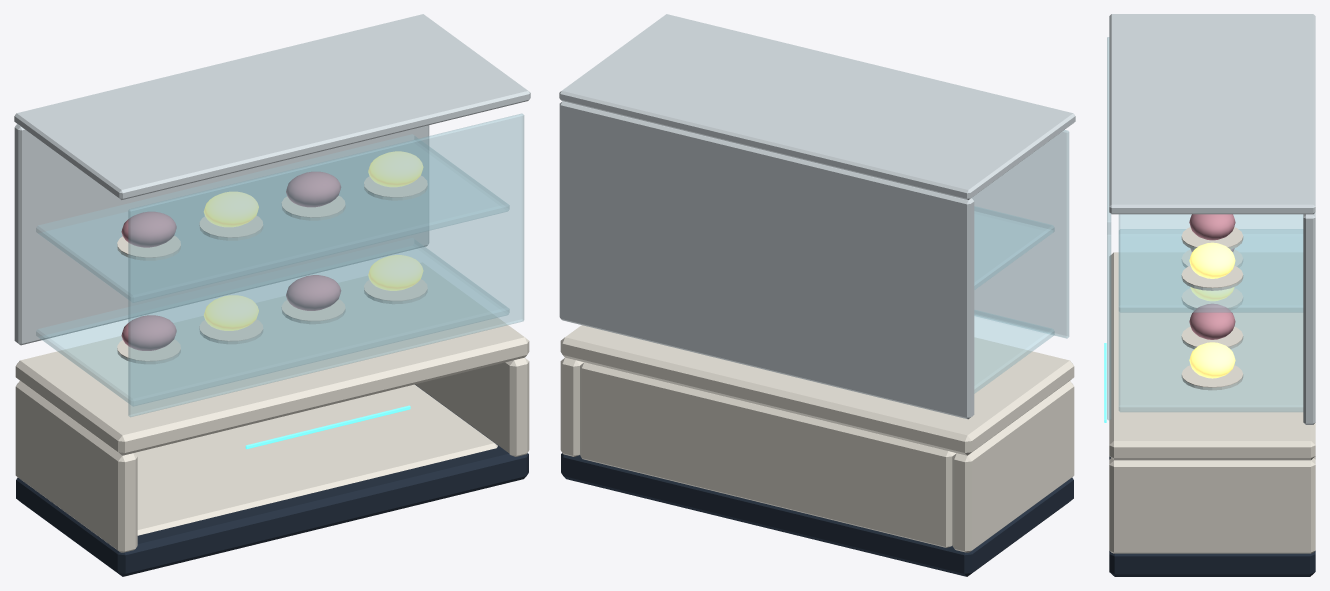
The model's file is restaurant_07.glb.
The picture shows the model from 3 angles, left to right: view 1: azimuth 30°, elevation 25°; view 2: azimuth 150°, elevation 25°; view 3: azimuth 270°, elevation 25°; orthographic projection. The views are drawn at different scales.
Parts seen in each view (by area): view 1: CaseGlass, DisplayShelf (×2), CaseTop, CaseBack, Top, Bottom, Side (×2), Base, Cake (×8), Plate (×8), StatusLight; view 2: CaseBack, CaseTop, Back, Top, CaseGlass, Side (×2), Base, DisplayShelf (×2); view 3: CaseTop, DisplayShelf (×2), Top, Side, Cake (×5), Base, Plate (×5), CaseBack, CaseGlass.
Boxes of the visible parts, left/top/right/bottom form: CaseGlass: left=128, top=113, right=524, bottom=417; DisplayShelf (×2): left=36, top=134, right=509, bottom=406; CaseTop: left=14, top=14, right=530, bottom=199; CaseBack: left=14, top=124, right=429, bottom=345; Top: left=15, top=262, right=529, bottom=455; Bottom: left=133, top=384, right=497, bottom=535; Side (×2): left=15, top=357, right=529, bottom=552; Base: left=16, top=384, right=528, bottom=576; Cake (×8): left=121, top=151, right=423, bottom=350; Plate (×8): left=117, top=176, right=427, bottom=363; StatusLight: left=245, top=405, right=410, bottom=448; CaseBack: left=559, top=101, right=974, bottom=419; CaseTop: left=559, top=14, right=1075, bottom=199; Back: left=580, top=362, right=956, bottom=547; Top: left=560, top=325, right=1074, bottom=455; CaseGlass: left=972, top=130, right=1069, bottom=338; Side (×2): left=560, top=357, right=1074, bottom=552; Base: left=561, top=453, right=1073, bottom=576; DisplayShelf (×2): left=974, top=206, right=1054, bottom=393; CaseTop: left=1109, top=14, right=1315, bottom=214; DisplayShelf (×2): left=1118, top=214, right=1303, bottom=412; Top: left=1109, top=252, right=1315, bottom=460; Side: left=1109, top=458, right=1315, bottom=553; Cake (×5): left=1189, top=214, right=1235, bottom=378; Base: left=1109, top=456, right=1315, bottom=576; Plate (×5): left=1181, top=227, right=1243, bottom=390; CaseBack: left=1303, top=212, right=1315, bottom=424; CaseGlass: left=1107, top=37, right=1111, bottom=420.
Size of the model in its own units: 1.48 by 1.34 by 0.686.
